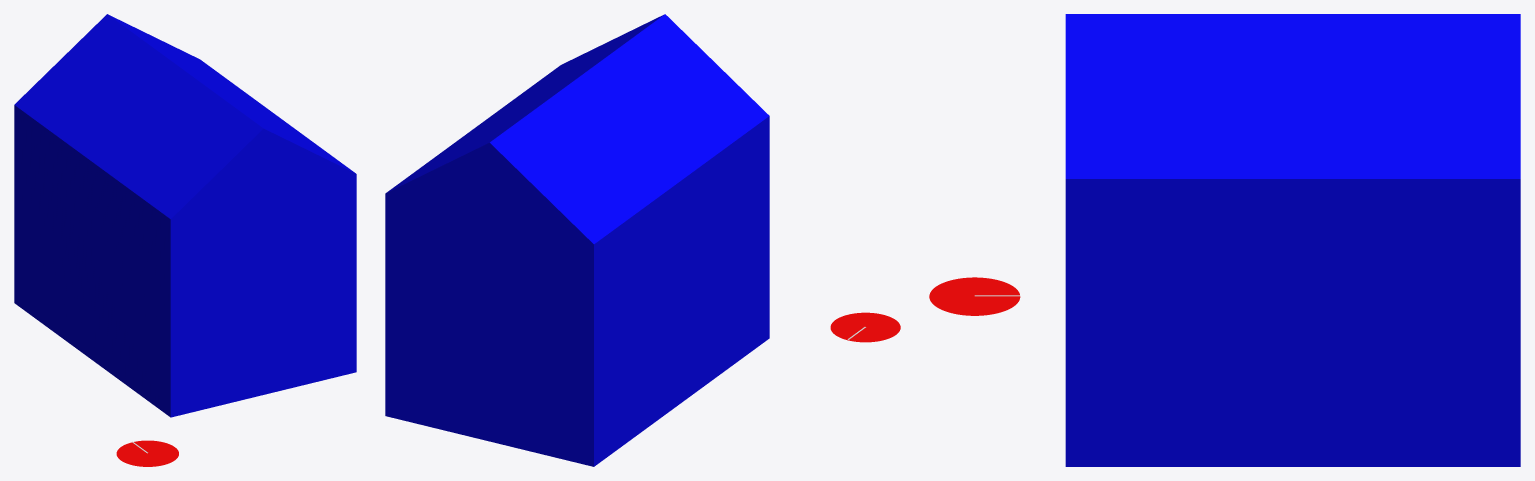
The model's file is result.glb.
3 views of the same model, side by side, from view 1: azimuth 30°, elevation 25°; view 2: azimuth 150°, elevation 25°; view 3: azimuth 270°, elevation 25° (orthographic). The views are drawn at different scales.
Parts seen in each view (by area): view 1: 2d5d59f1-bf4a-43b9-9412-f8b317e69a7c__undefined, 1291762c-347d-4837-9f47-d1ccb7e04d08__Circle; view 2: 2d5d59f1-bf4a-43b9-9412-f8b317e69a7c__undefined, 1291762c-347d-4837-9f47-d1ccb7e04d08__Circle; view 3: 2d5d59f1-bf4a-43b9-9412-f8b317e69a7c__undefined, 1291762c-347d-4837-9f47-d1ccb7e04d08__Circle.
Boxes of the visible parts, bbox=[...] form: 2d5d59f1-bf4a-43b9-9412-f8b317e69a7c__undefined: bbox=[14, 14, 356, 417]; 1291762c-347d-4837-9f47-d1ccb7e04d08__Circle: bbox=[116, 440, 178, 466]; 2d5d59f1-bf4a-43b9-9412-f8b317e69a7c__undefined: bbox=[385, 14, 769, 466]; 1291762c-347d-4837-9f47-d1ccb7e04d08__Circle: bbox=[830, 312, 900, 342]; 2d5d59f1-bf4a-43b9-9412-f8b317e69a7c__undefined: bbox=[1065, 14, 1520, 466]; 1291762c-347d-4837-9f47-d1ccb7e04d08__Circle: bbox=[929, 277, 1020, 315].
Size of the model in its own units: 493 by 469 by 650.
